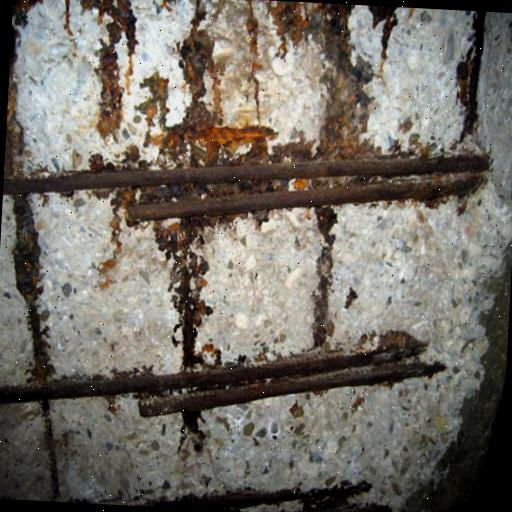spalling: (0, 60, 507, 497)
